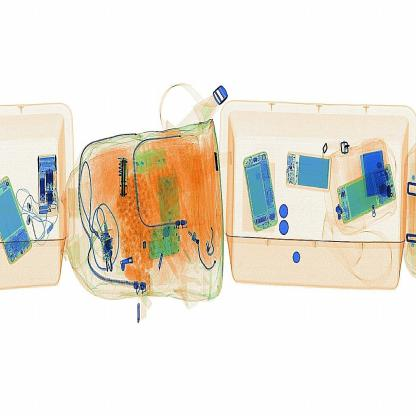scissors: (110, 148, 136, 204)
